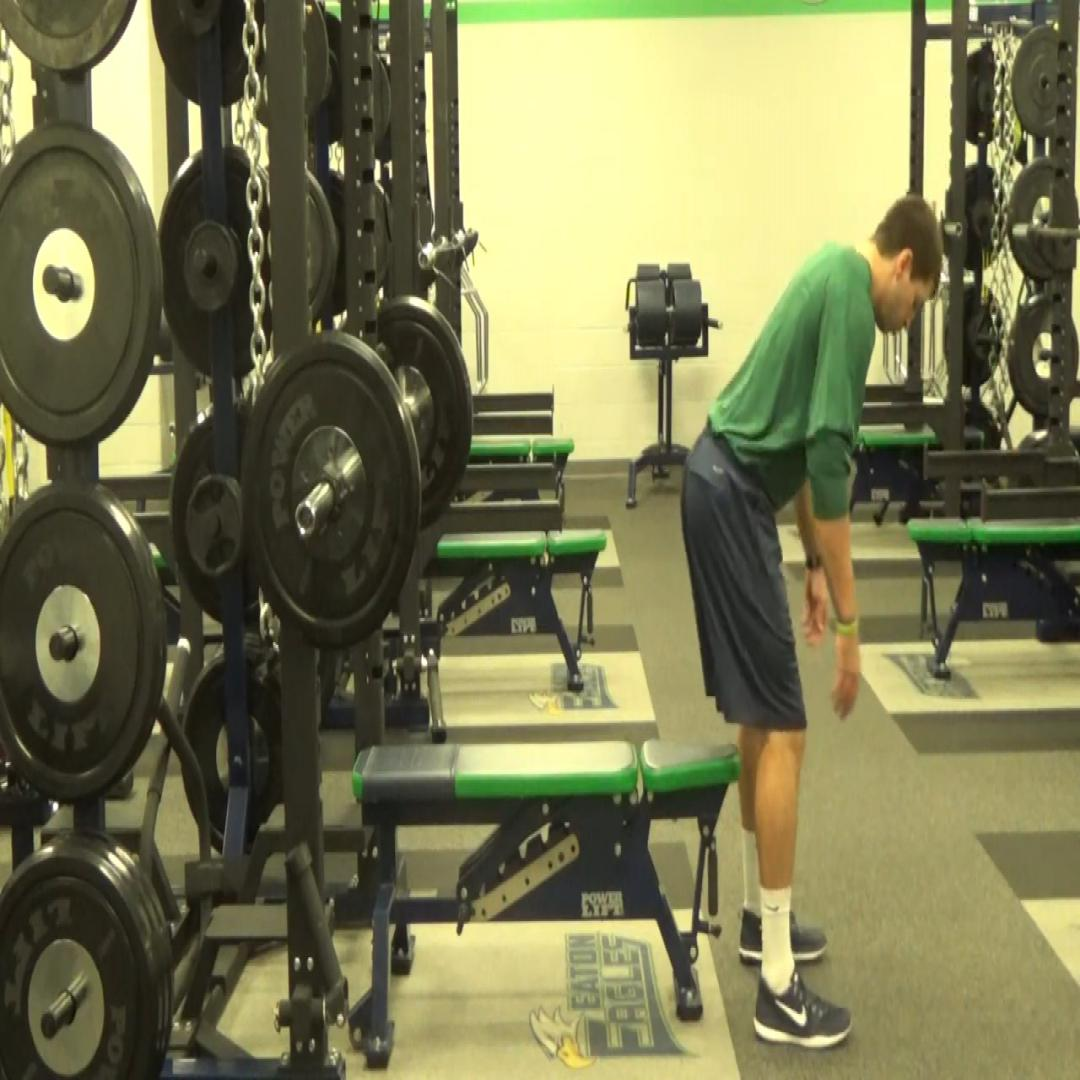Bar: (294, 501, 316, 539)
Barbell: (243, 341, 419, 645)
